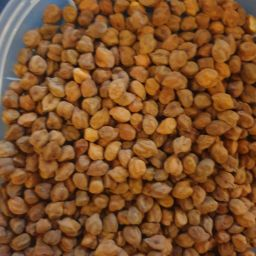Black Chickpeas: (44, 2, 256, 167), (39, 1, 256, 144), (74, 132, 256, 256), (6, 18, 84, 256), (22, 73, 155, 196)
